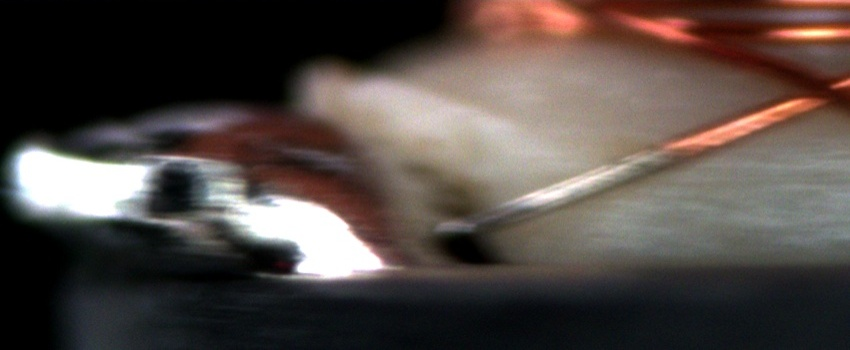CL: (773, 61, 846, 116)
DL: (626, 145, 850, 209)
TS: (437, 144, 670, 240)
